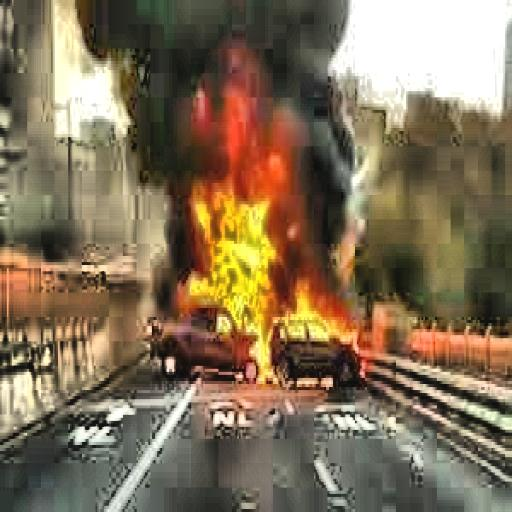fire: (182, 146, 364, 393)
